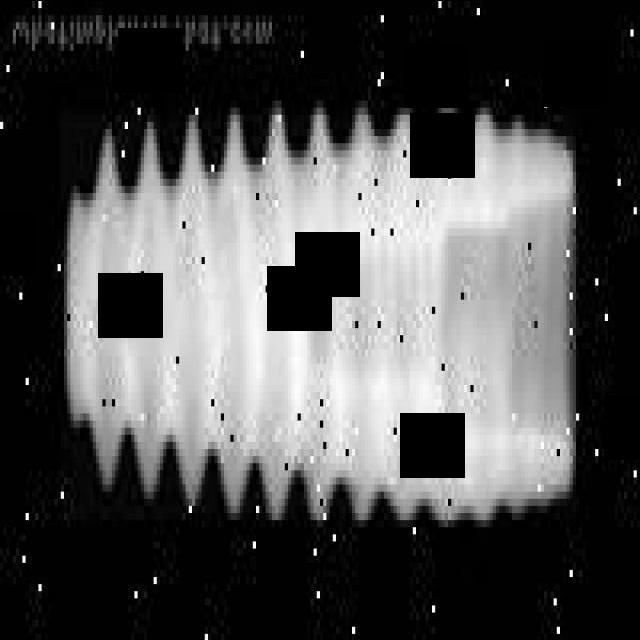OCO Biomedical Implant: (61, 114, 576, 519)
